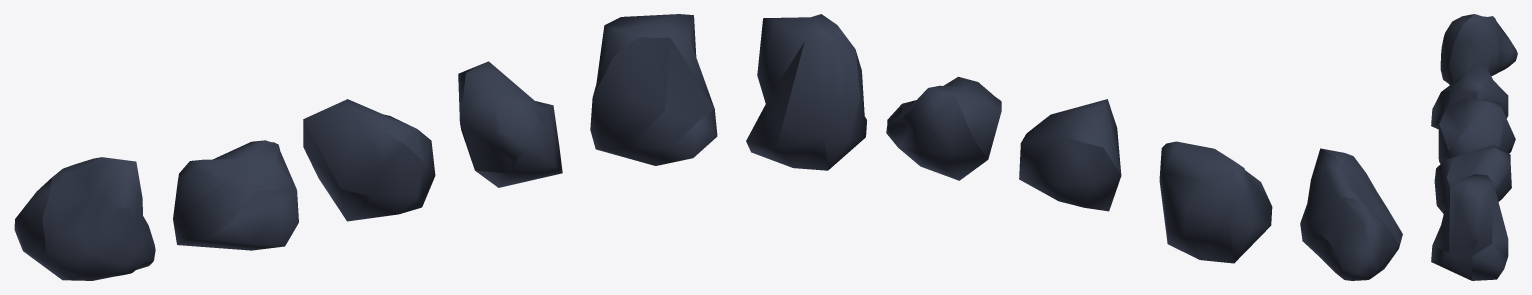
The model's file is assetRocas.fbx.
The picture shows the model from 3 angles, left to right: view 1: azimuth 30°, elevation 25°; view 2: azimuth 150°, elevation 25°; view 3: azimuth 270°, elevation 25°; orthographic projection. The views are drawn at different scales.
Visible parts, largest first — view 1: Roca4, Roca5, Roca1, Roca3, Roca2; view 2: Roca4, Roca3, Roca5, Roca1, Roca2; view 3: Roca4, Roca5, Roca1, Roca2, Roca3.
Boxes of the visible parts, x1,y1,x2,y2 form: Roca4: [590, 14, 717, 165]; Roca5: [14, 157, 155, 280]; Roca1: [303, 99, 435, 221]; Roca3: [173, 140, 298, 250]; Roca2: [458, 61, 562, 187]; Roca4: [746, 14, 866, 170]; Roca3: [1159, 141, 1272, 263]; Roca5: [1300, 148, 1402, 280]; Roca1: [1019, 99, 1121, 211]; Roca2: [886, 76, 1001, 180]; Roca4: [1431, 174, 1508, 280]; Roca5: [1440, 14, 1517, 84]; Roca1: [1438, 98, 1515, 163]; Roca2: [1434, 145, 1511, 213]; Roca3: [1431, 65, 1508, 129].
Bounding box in the file's own units: 94.57 × 18.69 × 16.85.
